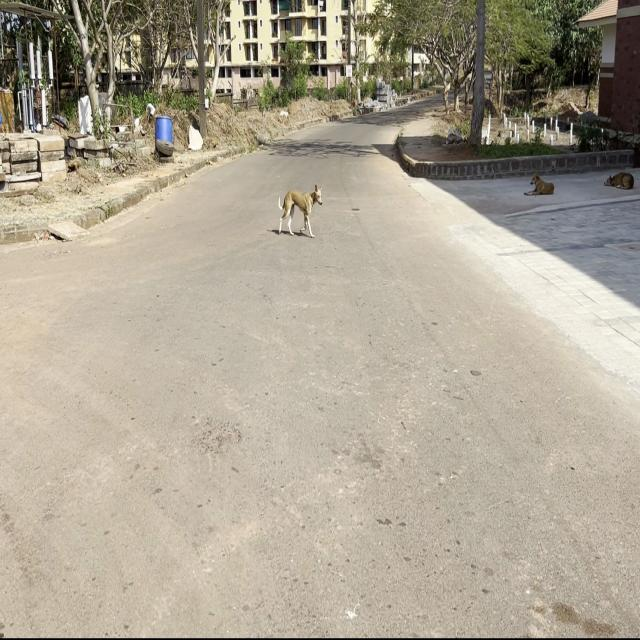Object: (265, 179, 335, 243)
Road: (0, 121, 640, 636), (272, 178, 273, 179)
